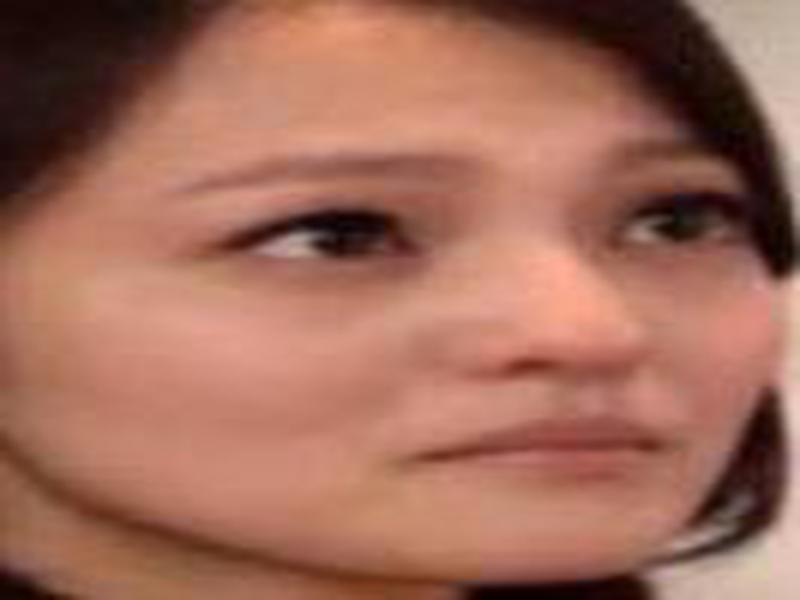without_mask: (19, 27, 780, 582)
